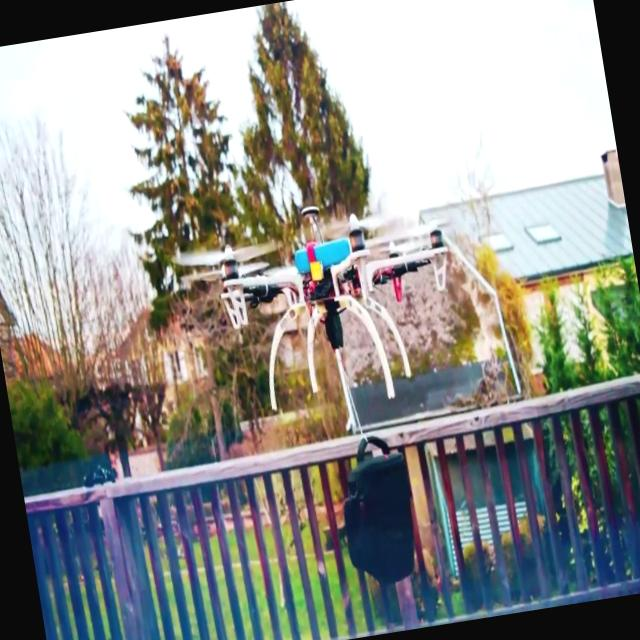drone: (164, 179, 475, 431)
